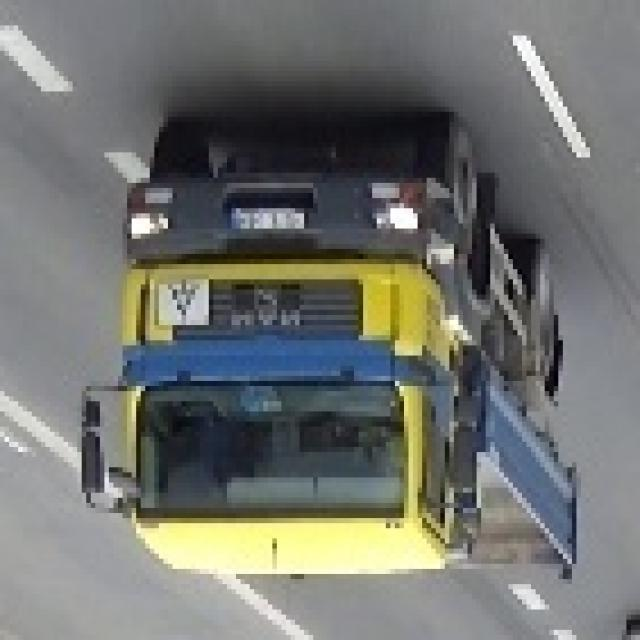truck: (86, 121, 586, 594)
